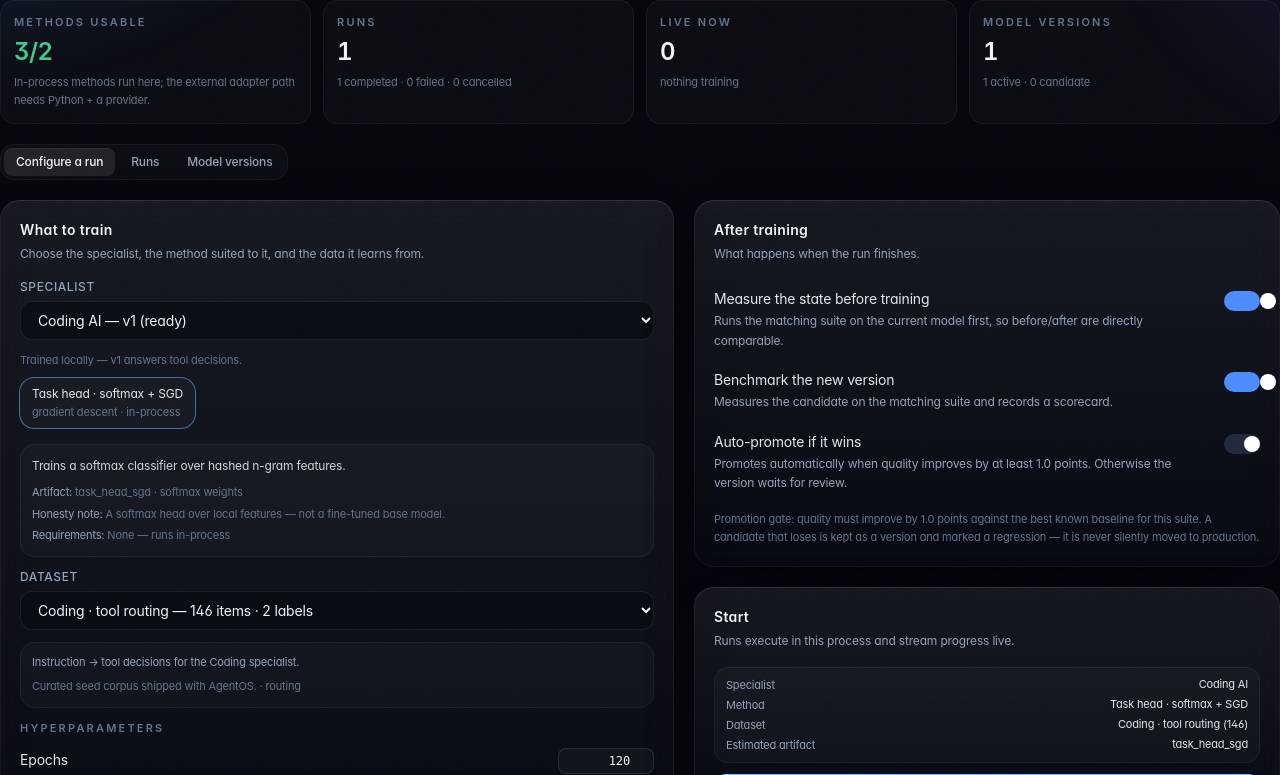
Test case: training lab › lists model versions with their status and evidence
Expected: the button "Task head · softmax + SGD gradient descent · in-process" is shown, [20,378,195,428]
Step 1. Click the tab "Model versions" → (230, 162), box [175,148,284,176]
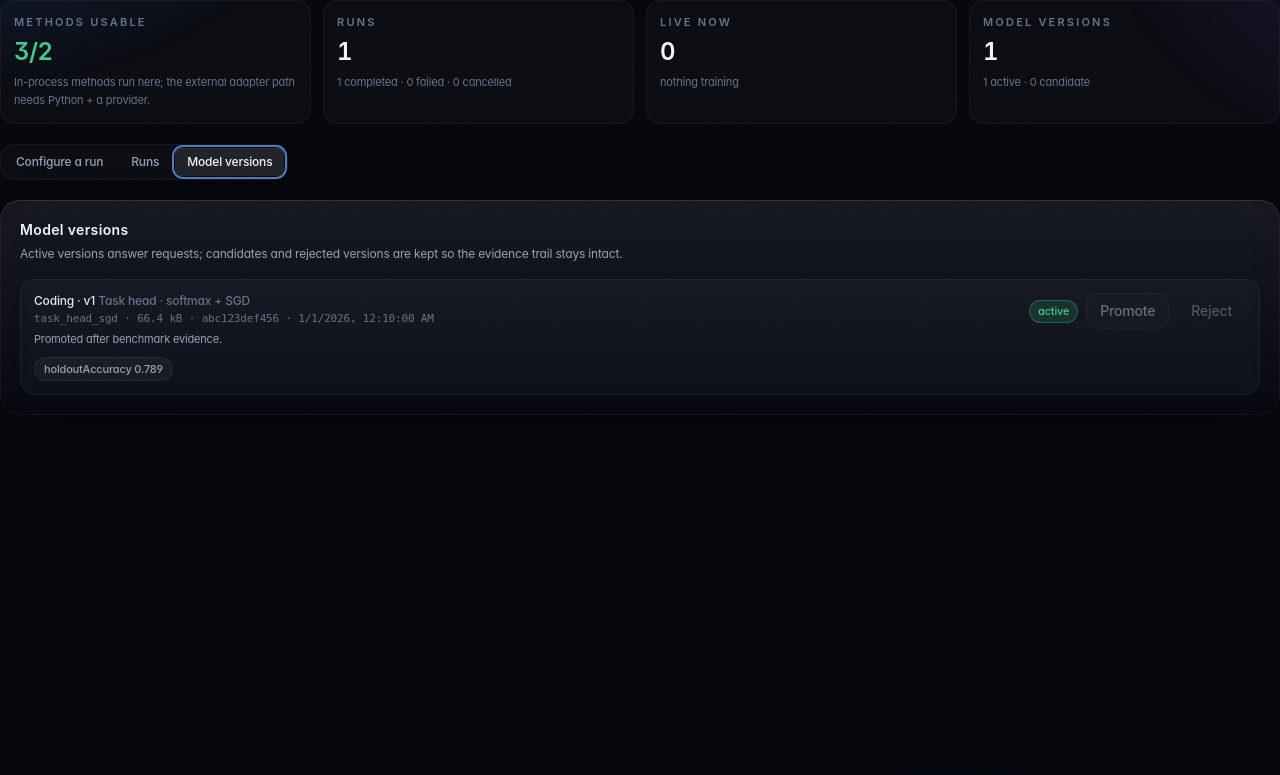
Expected: the button "Promote" is disabled, [1086,293,1169,329]
Expected: the text "Coding · v1 Task head · softmax + SGD" is shown, [34,293,250,308]
Expected: the text "active" is shown, [1029,300,1078,322]
